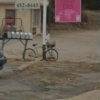Bicycle: (22, 39, 66, 65)
